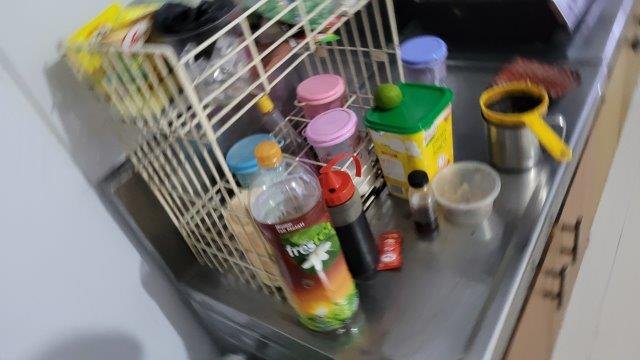botolplastik: (256, 139, 361, 335)
